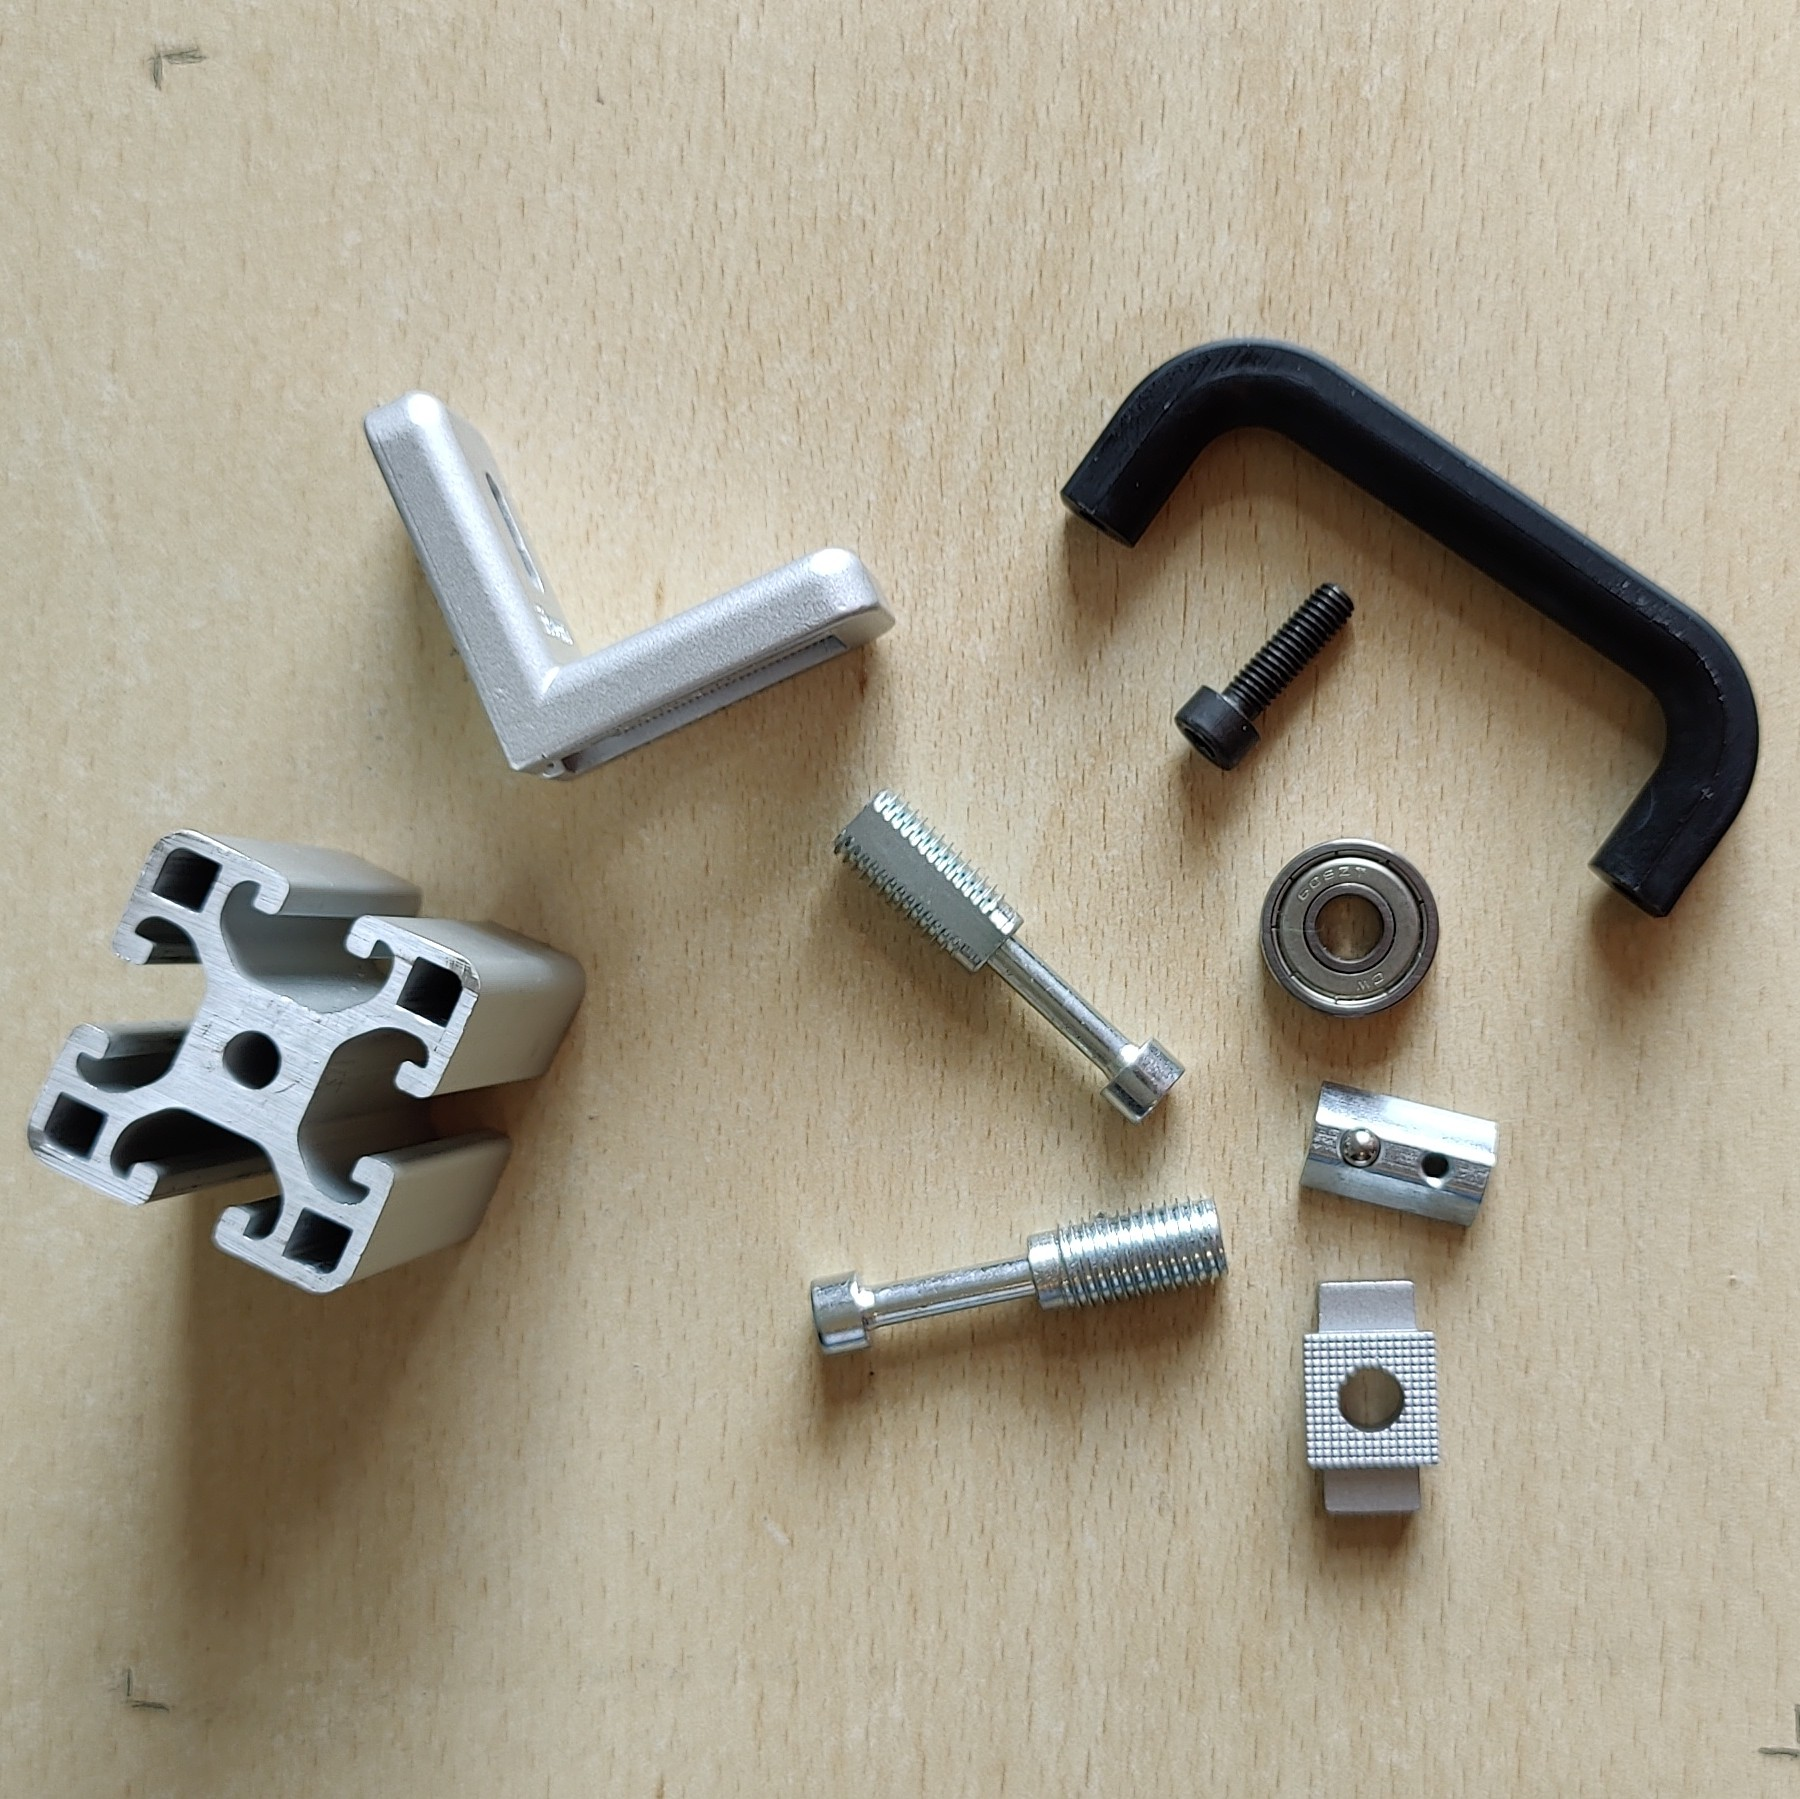Aluminium Extension: (26, 825, 590, 1297)
Ball Bearing: (1258, 839, 1443, 1020)
Multiwinkel: (361, 389, 898, 784)
Pull Handle: (1056, 334, 1762, 923)
Shoulder Socket Head Cap Screw: (828, 787, 1187, 1128), (809, 1193, 1232, 1361)
Socket Head Cap Screw: (1173, 577, 1359, 773)
T Nut Square: (1299, 1277, 1444, 1522)
T Spring Nut: (1298, 1081, 1500, 1232)
